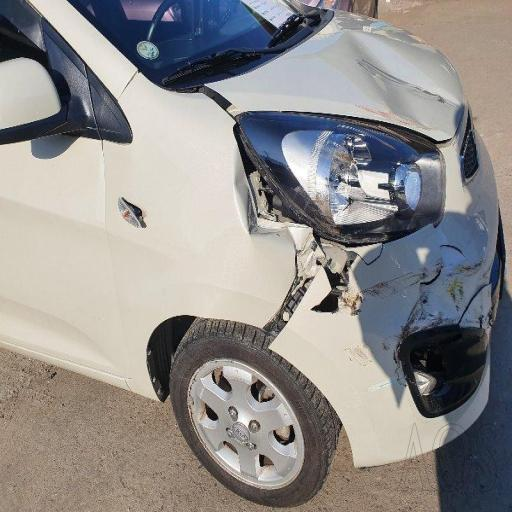broken: (223, 117, 486, 411), (102, 162, 175, 276)
dent: (330, 23, 458, 130)
